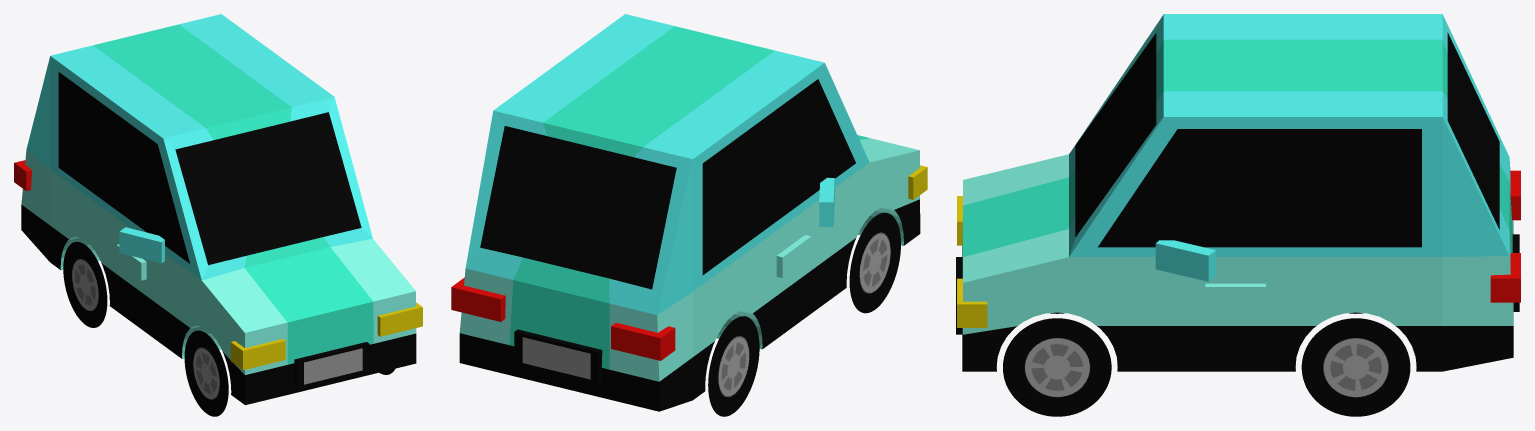
File: Mobil_5_Biru_D.fbx
3 renders of one model, left to right at view 1: azimuth 30°, elevation 25°; view 2: azimuth 150°, elevation 25°; view 3: azimuth 270°, elevation 25°, orthographic. The views are drawn at different scales.
Parts seen in each view (by area): view 1: Mobil5; view 2: Mobil5; view 3: Mobil5.
Part boxes in pixels (bbox=[...]): Mobil5: bbox=[14, 14, 422, 416]; Mobil5: bbox=[451, 14, 927, 416]; Mobil5: bbox=[956, 14, 1520, 416].
Size of the model in its own units: 522 by 546 by 931.
5 materials, 3 textured.
